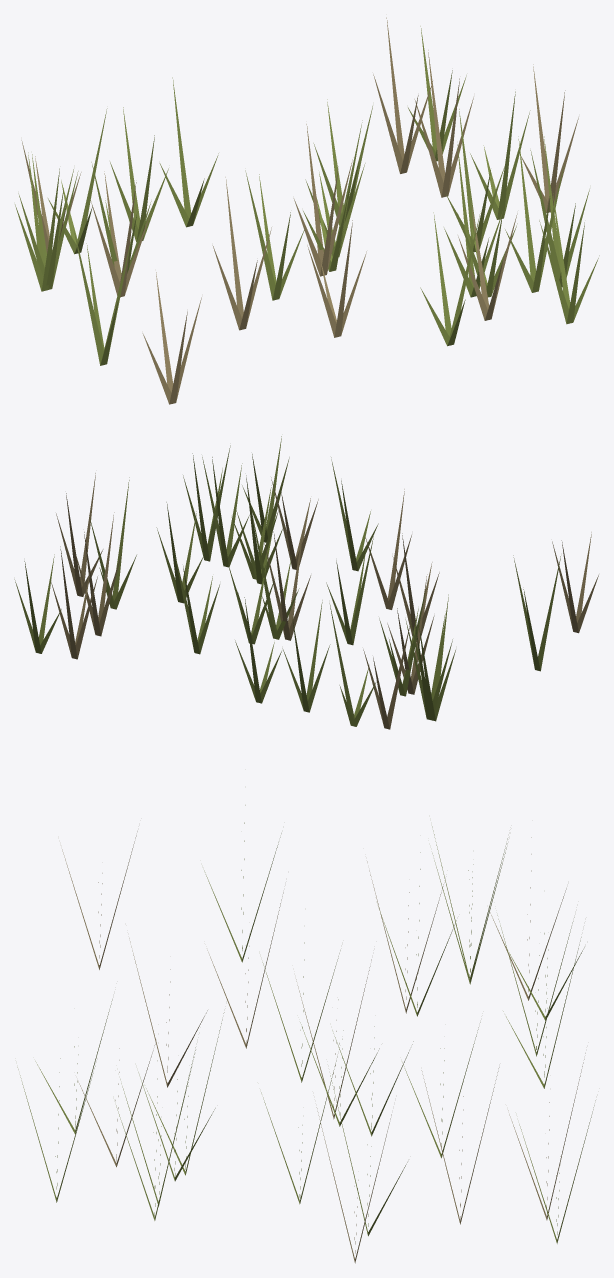
The model's file is meadow_grasses.glb.
3 renders of one model, top to bottom at view 1: azimuth 30°, elevation 25°; view 2: azimuth 150°, elevation 25°; view 3: azimuth 270°, elevation 25°, orthographic. The views are drawn at different scales.
Visible parts, largest first — view 1: meadow_grasses_body; view 2: meadow_grasses_body; view 3: meadow_grasses_body.
Boxes of the visible parts, x1=… form: meadow_grasses_body: x1=15, y1=17, x2=599, y2=404; meadow_grasses_body: x1=14, y1=436, x2=598, y2=729; meadow_grasses_body: x1=17, y1=805, x2=595, y2=1263.
Size of the model in its own units: 5.58 by 1.43 by 4.1.
